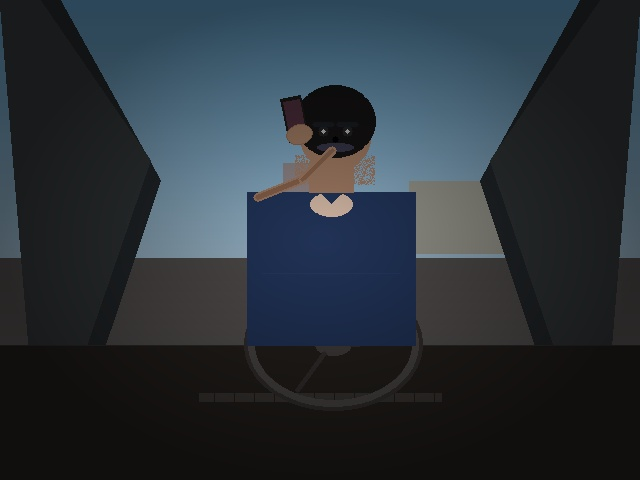phone_usage: (277, 90, 313, 149)
